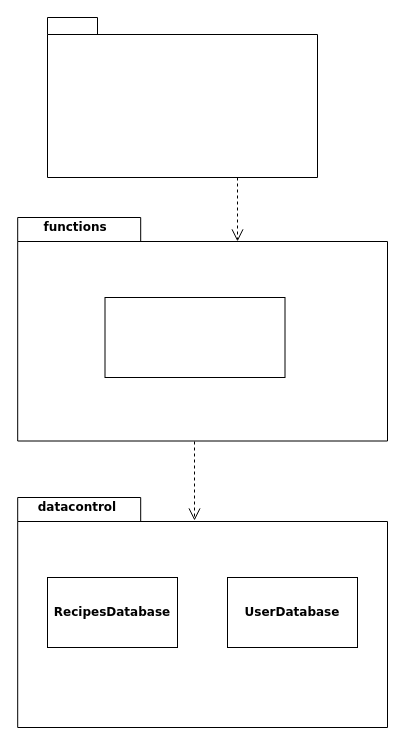
This 405x745 diagram has some shape labels left out. The shapes that lost their labels are listed below. From the top down, each one's centre as x and y in pixels, then its label:
At (x=182, y=97): "ui".
At (x=194, y=337): "CookbookAppFunctions".
